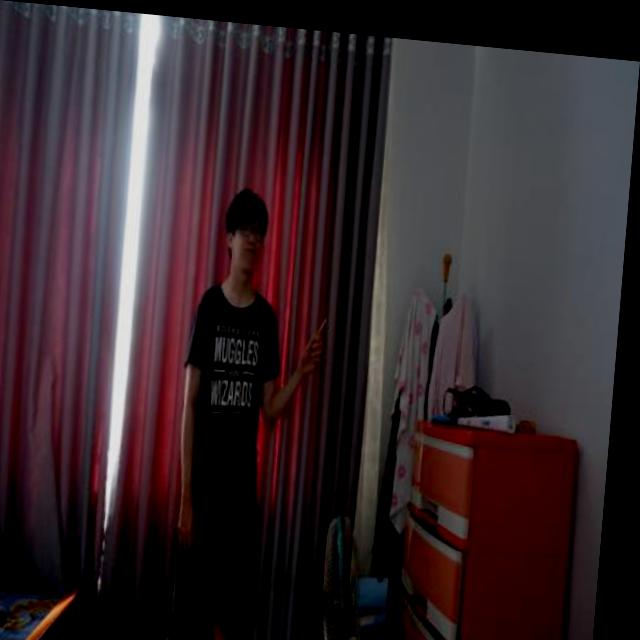cigarette: (321, 310, 331, 332)
